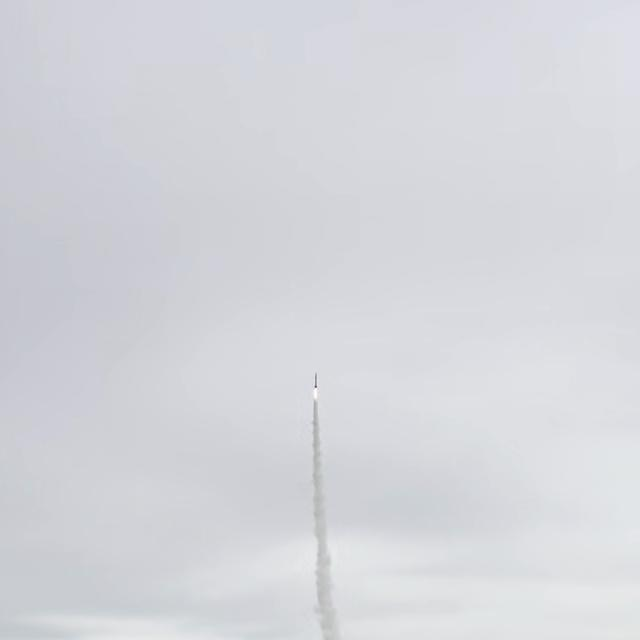smoke_trail_with_rocket: (312, 372, 340, 640)
